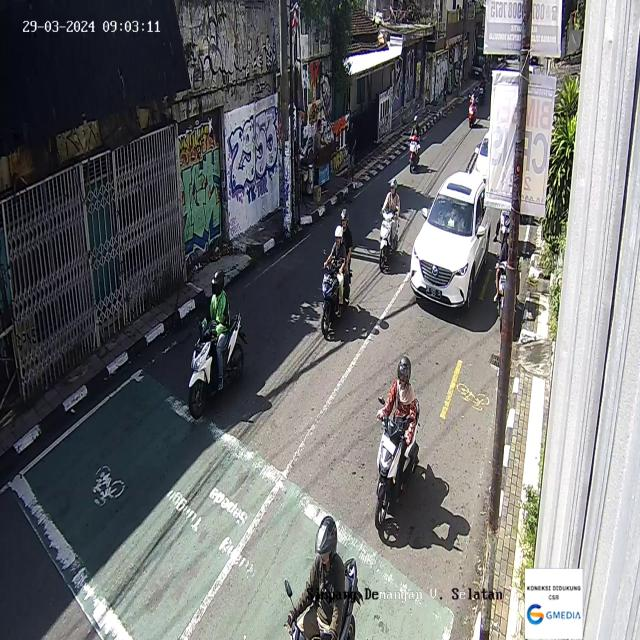car: (409, 171, 492, 309)
motorcycle: (283, 515, 362, 639), (188, 268, 246, 419), (375, 354, 421, 528), (320, 208, 355, 339), (496, 230, 518, 331), (378, 177, 401, 273), (408, 114, 422, 174), (468, 88, 478, 128), (477, 72, 487, 108)
